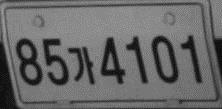0: (150, 34, 178, 84)
1: (179, 34, 203, 83), (125, 35, 148, 84)
4: (99, 36, 126, 84)
5: (42, 37, 69, 85)
8: (15, 37, 42, 85)
가: (67, 45, 95, 85)
